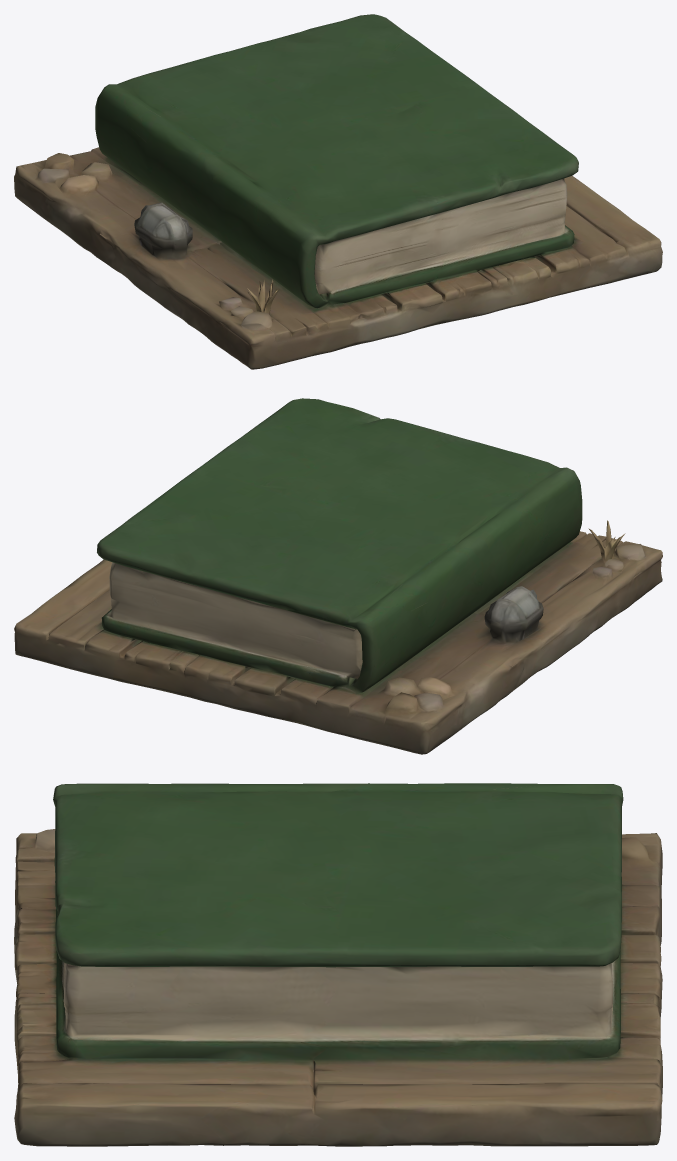
Rendered from item_passport.glb.
The picture shows the model from 3 angles, top to bottom: view 1: azimuth 30°, elevation 25°; view 2: azimuth 150°, elevation 25°; view 3: azimuth 270°, elevation 25°; orthographic projection. The views are drawn at different scales.
Visible parts, largest first — view 1: tripo_node_f881b399-07a4-44ee-8611-969f73f86d8c; view 2: tripo_node_f881b399-07a4-44ee-8611-969f73f86d8c; view 3: tripo_node_f881b399-07a4-44ee-8611-969f73f86d8c.
Part boxes in pixels (bbox=[...]): tripo_node_f881b399-07a4-44ee-8611-969f73f86d8c: bbox=[14, 14, 662, 369]; tripo_node_f881b399-07a4-44ee-8611-969f73f86d8c: bbox=[14, 398, 662, 754]; tripo_node_f881b399-07a4-44ee-8611-969f73f86d8c: bbox=[14, 783, 662, 1146].
Size of the model in its own units: 1 by 0.2649 by 0.9987.
1 material, 1 textured.
